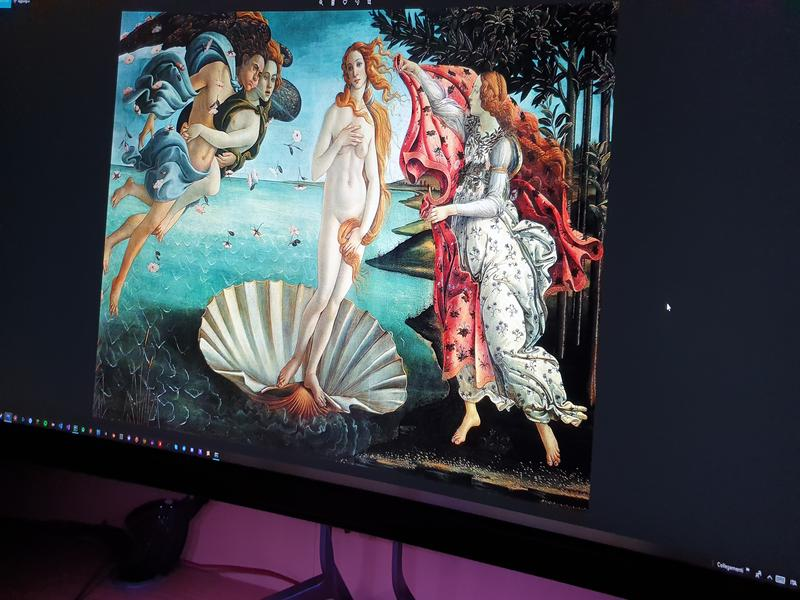Venere: (90, 9, 620, 514)
